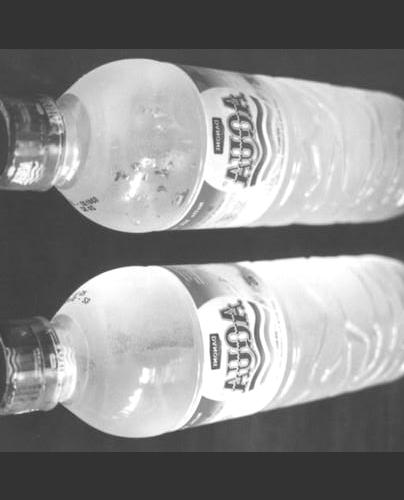bottle: (0, 251, 404, 440), (0, 54, 404, 233)
